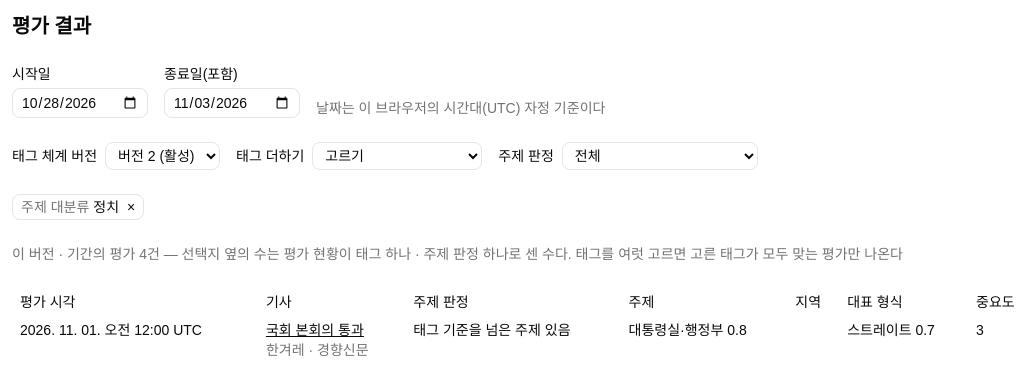
EvaluationListPage › 받은 상한은 다음 목록이 400 이어도 기억해 막는다
Expected: the table named "평가 결과" is shown, [12,288,1035,364]
Select "국내 (1)" in the dropdown labelled "태그 더하기" at (397,156), box [312,142,482,170]
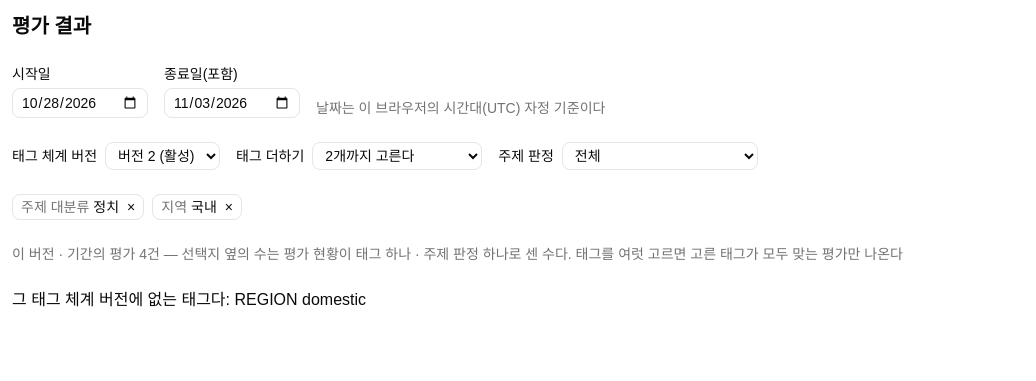
Result: the message reads "그 태그 체계 버전에 없는 태그다: REGION domestic" at [12,291,366,308]
Result: the dropdown labelled "태그 더하기" is disabled at [312,142,482,170]
